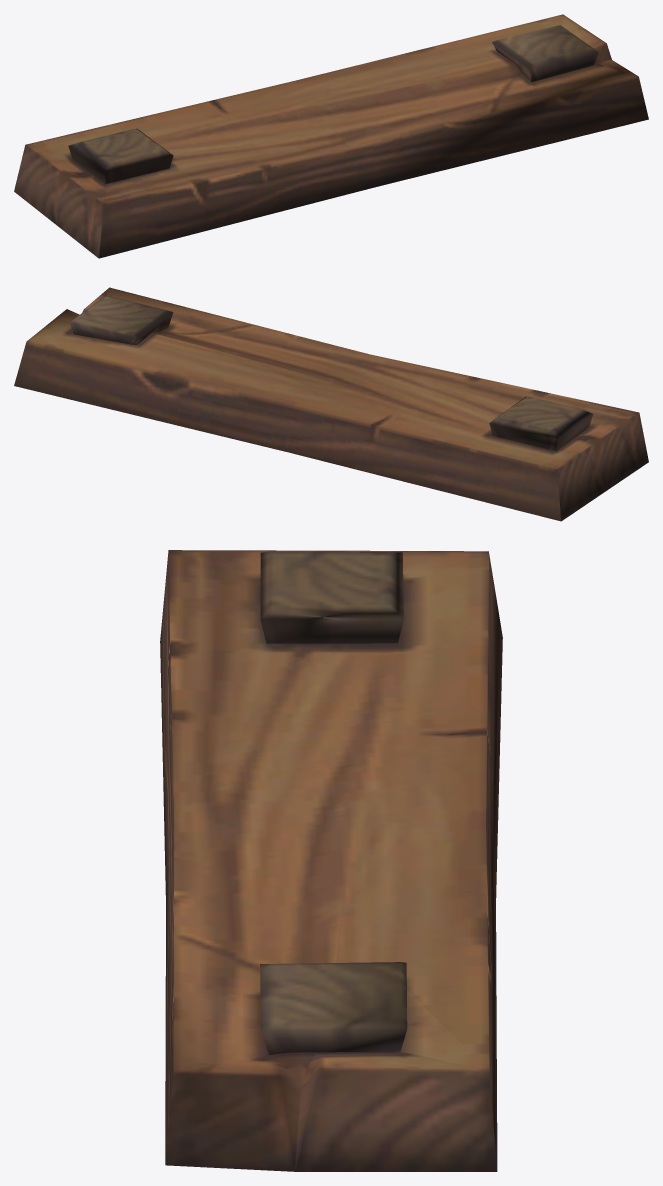
The model's file is pa_woodplank_01.obj.
3 renders of one model, top to bottom at view 1: azimuth 30°, elevation 25°; view 2: azimuth 150°, elevation 25°; view 3: azimuth 270°, elevation 25°, orthographic. The views are drawn at different scales.
Visible parts, largest first — view 1: Geoset_000; view 2: Geoset_000; view 3: Geoset_000.
Part boxes in pixels (x1=…): Geoset_000: x1=14, y1=14, x2=648, y2=258; Geoset_000: x1=14, y1=287, x2=648, y2=521; Geoset_000: x1=160, y1=550, x2=502, y2=1171.
Size of the model in its own units: 0.9834 by 0.1082 by 0.265.
